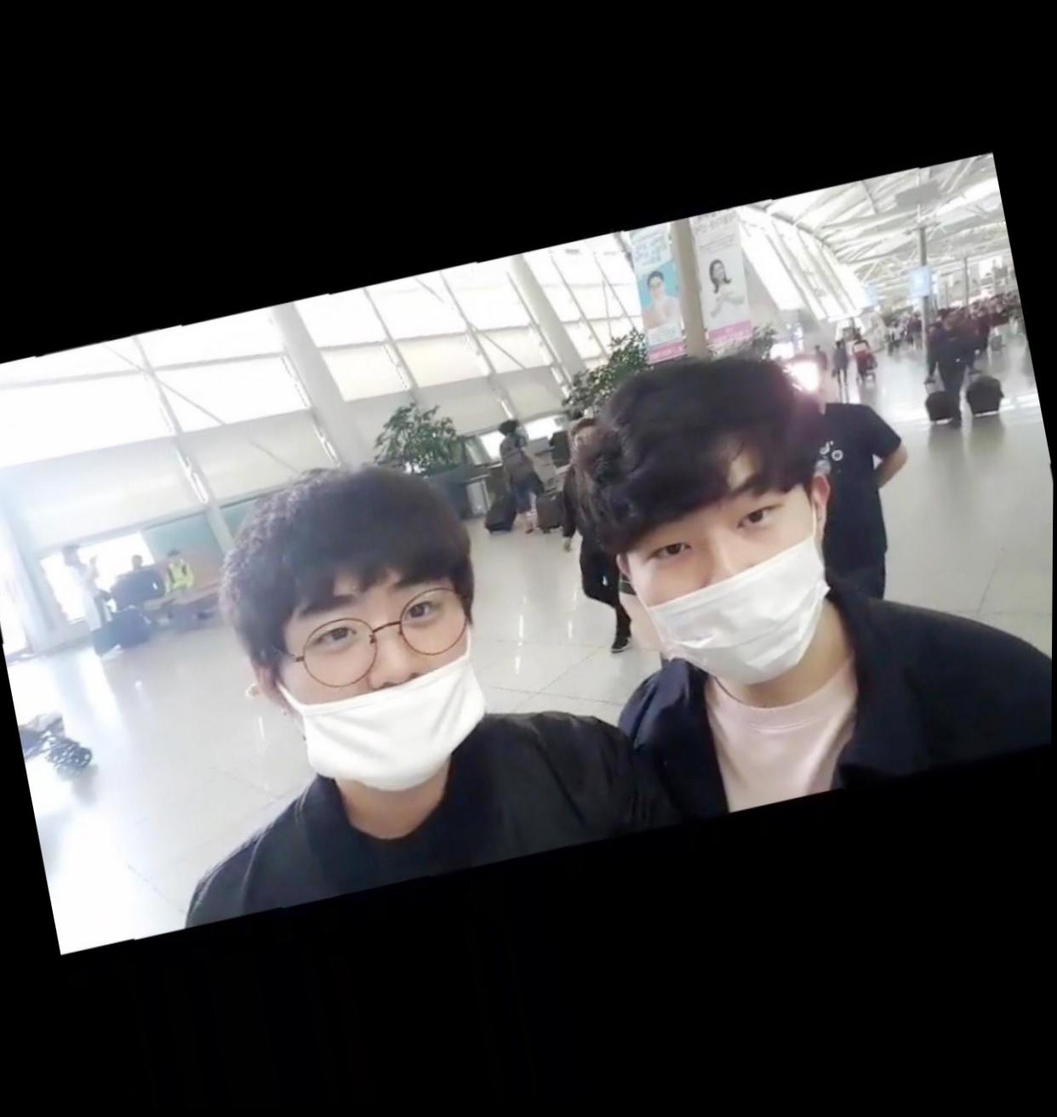WRONG: (609, 447, 852, 715), (261, 556, 508, 814)
